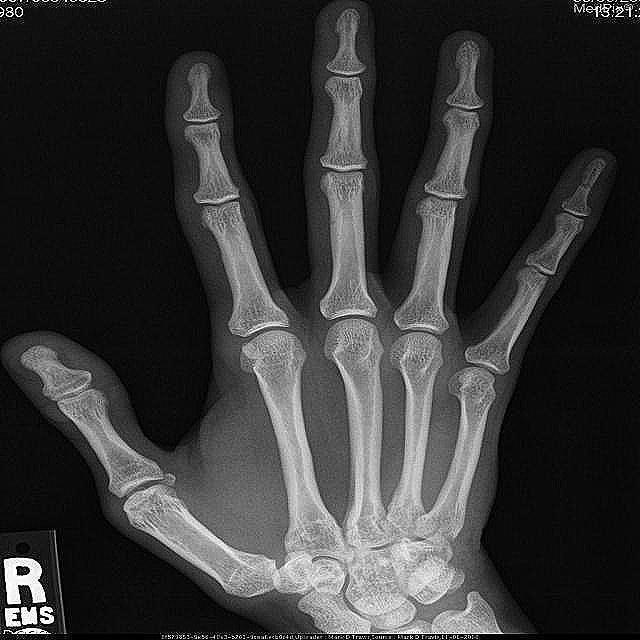bone: (565, 166, 608, 201)
